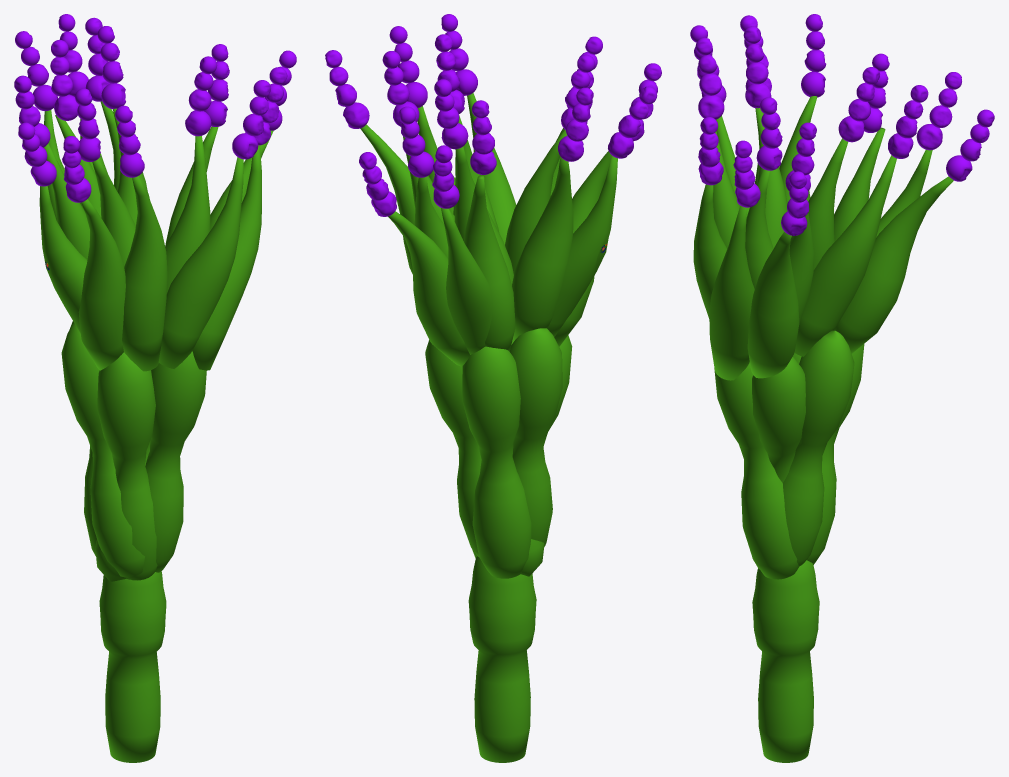
Rendered from Penicillium.obj.
3 renders of one model, left to right at view 1: azimuth 30°, elevation 25°; view 2: azimuth 150°, elevation 25°; view 3: azimuth 270°, elevation 25°, orthographic.
Parts seen in each view (by area): view 1: Cylinder.021; view 2: Cylinder.021; view 3: Cylinder.021.
Part boxes in pixels (x1,y1,x2,y2): Cylinder.021: (14,14,296,762); Cylinder.021: (325,14,661,762); Cylinder.021: (690,14,994,762).
Bounding box in the file's own units: 0.1823 × 0.4002 × 0.1591.
